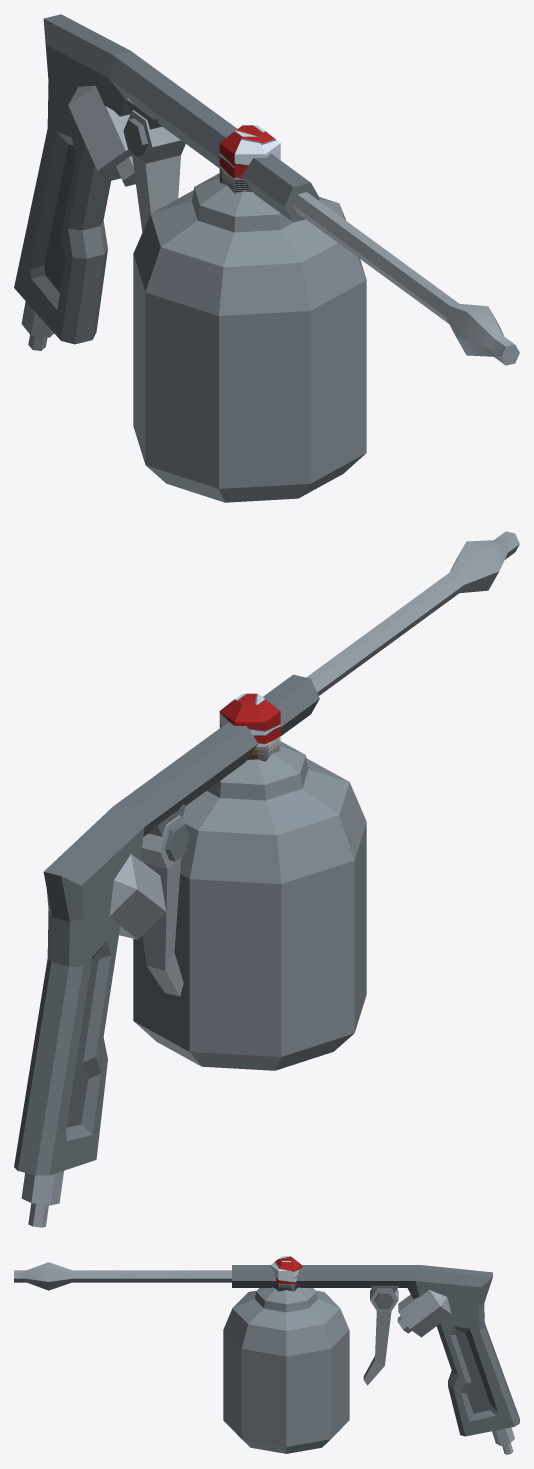
File: SM_Prop_AirSprayer_01_Preset.fbx
3 views of the same model, one above another, from view 1: azimuth 30°, elevation 25°; view 2: azimuth 150°, elevation 25°; view 3: azimuth 270°, elevation 25° (orthographic). The views are drawn at different scales.
Visible parts, largest first — view 1: SM_Prop_AirSprayer_01_Preset; view 2: SM_Prop_AirSprayer_01_Preset; view 3: SM_Prop_AirSprayer_01_Preset.
Boxes of the visible parts, x1,y1,x2,y2 form: SM_Prop_AirSprayer_01_Preset: [14, 14, 519, 502]; SM_Prop_AirSprayer_01_Preset: [14, 531, 519, 1227]; SM_Prop_AirSprayer_01_Preset: [14, 1256, 519, 1454].
Bounding box in the file's own units: 14.91 × 25.39 × 59.74.
